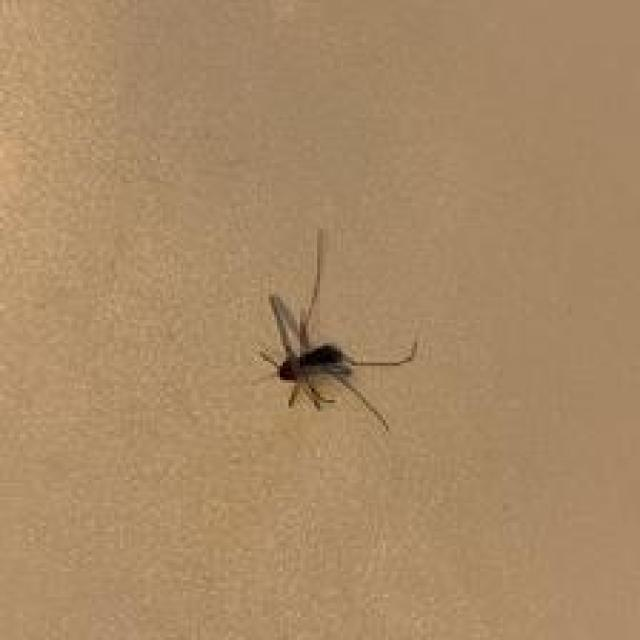Culex: (253, 226, 418, 434)
